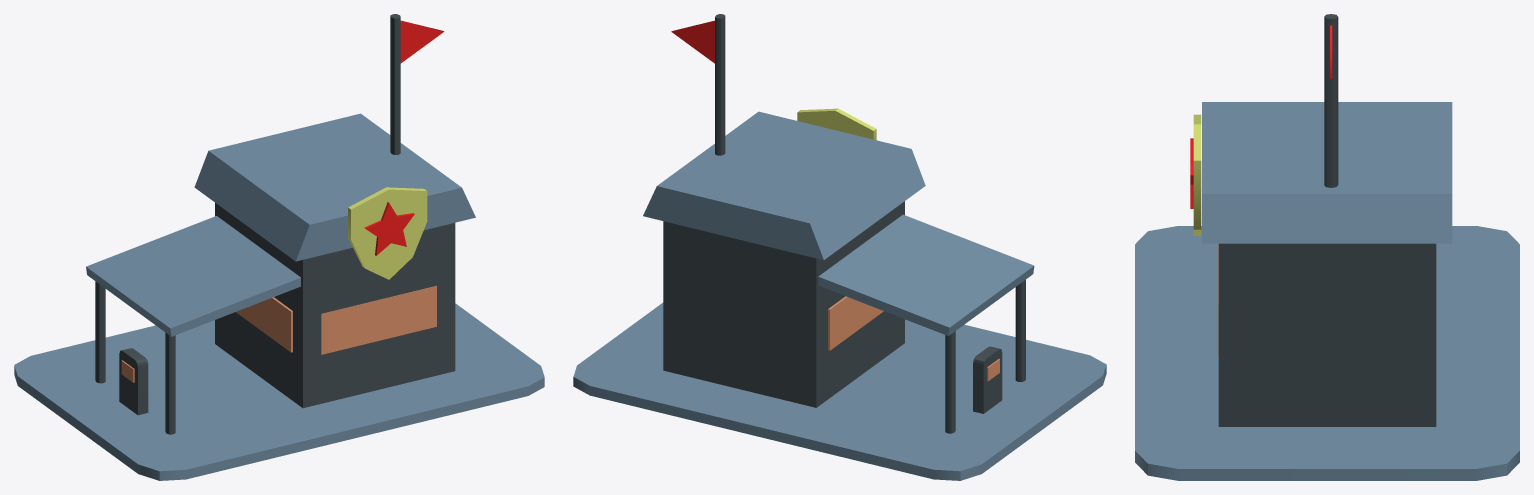
Rendered from checkpoint_v01.glb.
The picture shows the model from 3 angles, left to right: view 1: azimuth 30°, elevation 25°; view 2: azimuth 150°, elevation 25°; view 3: azimuth 270°, elevation 25°; orthographic projection. The views are drawn at different scales.
Visible parts, largest first — view 1: pCube2, pCube1, pCube14, pCube3, pCube7, pCube11, pCube9, pCube13, pCube17, pCylinder1, pCube12, pCube15 (+1 smaller); view 2: pCube2, pCube1, pCube14, pCube3, pCube9, pCube13, pCube17, pCube11, pCube15, pCube12, pCube6; view 3: pCube2, pCube1, pCube14, pCube17, pCube11.
Part boxes in pixels (x1,y1,x2,y2): pCube2: [14, 303, 544, 480]; pCube1: [215, 203, 455, 408]; pCube14: [194, 113, 475, 261]; pCube3: [86, 216, 300, 336]; pCube7: [321, 285, 436, 354]; pCube11: [348, 187, 427, 279]; pCube9: [236, 297, 292, 352]; pCube13: [119, 348, 148, 415]; pCube17: [390, 14, 400, 154]; pCylinder1: [364, 202, 414, 255]; pCube12: [165, 332, 175, 434]; pCube15: [95, 281, 105, 383]; pCube2: [573, 302, 1106, 480]; pCube1: [663, 201, 904, 407]; pCube14: [643, 111, 925, 260]; pCube3: [818, 214, 1034, 335]; pCube9: [828, 296, 883, 350]; pCube13: [973, 346, 1002, 413]; pCube17: [715, 14, 725, 155]; pCube11: [797, 108, 876, 140]; pCube15: [945, 331, 955, 433]; pCube12: [1015, 280, 1025, 382]; pCube6: [671, 20, 714, 63]; pCube2: [1135, 226, 1519, 480]; pCube1: [1218, 243, 1436, 426]; pCube14: [1202, 102, 1452, 243]; pCube17: [1324, 14, 1338, 187]; pCube11: [1193, 114, 1201, 235].
Bounding box in the file's own units: 40.91 × 32.47 × 27.35.
